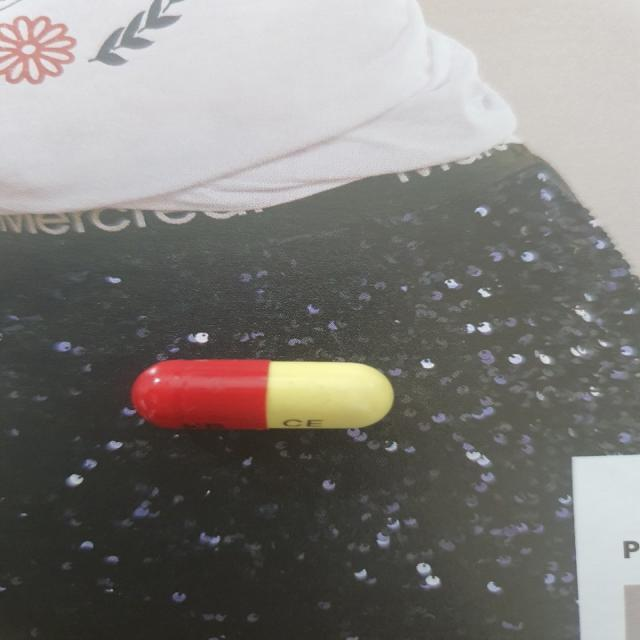pill: (130, 348, 402, 436)
